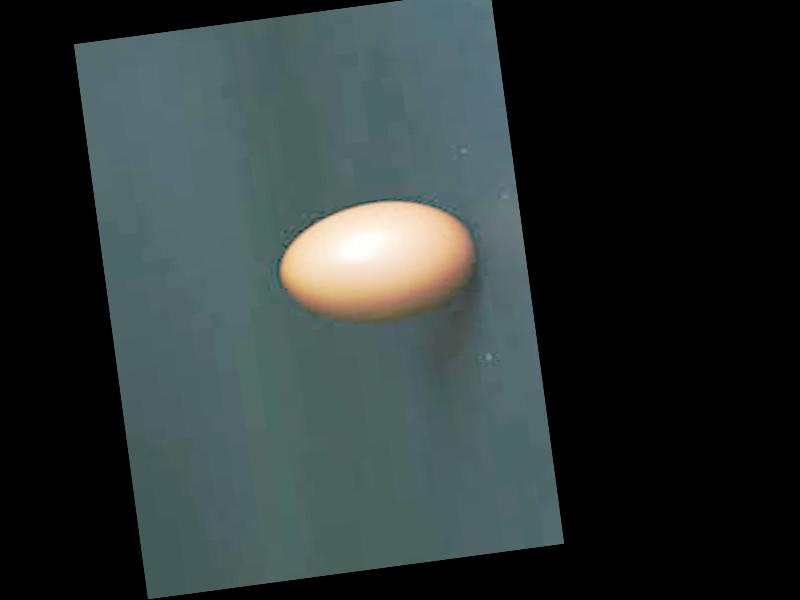Eggs: (273, 192, 482, 329)
